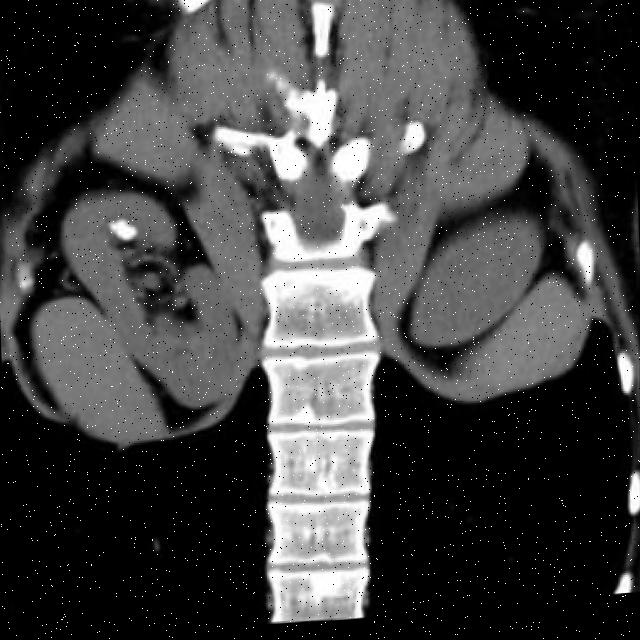Tas_Var: (115, 226, 139, 244), (107, 222, 118, 238), (116, 221, 130, 230)
